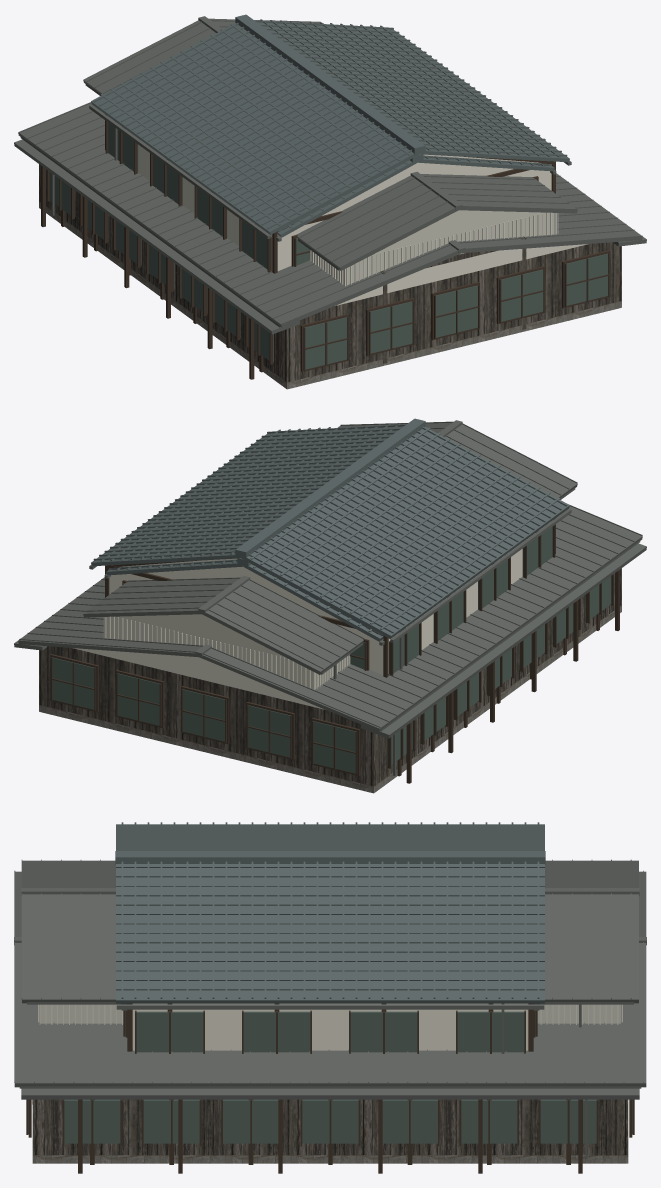
Rendered from junction.glb.
3 views of the same model, one above another, from view 1: azimuth 30°, elevation 25°; view 2: azimuth 150°, elevation 25°; view 3: azimuth 270°, elevation 25° (orthographic). The views are drawn at different scales.
Parts seen in each view (by area): view 1: 660927475-Weathered grey roof tile.028, 671938230-Junction charcoal sheet roof, 660927473-Junction charcoal sheet roof, 671938230-Smoke-aged cedar.028, 671938230-Recessed muted glazing.023, 671938230-Dark structural timber.028, 660927473-Junction pale metal siding, 671938230-Foundation granite.028, 660927475-Junction warm plaster, 660927475-Recessed muted glazing.023, 671938230-Junction warm plaster, 660927475-Dark structural timber.028 (+4 smaller); view 2: 660927475-Weathered grey roof tile.028, 671938230-Junction charcoal sheet roof, 660927473-Junction charcoal sheet roof, 671938230-Smoke-aged cedar.028, 671938230-Recessed muted glazing.023, 671938230-Dark structural timber.028, 660927473-Junction pale metal siding, 671938230-Foundation granite.028, 660927475-Junction warm plaster, 660927475-Recessed muted glazing.023, 671938230-Junction warm plaster, 660927475-Dark structural timber.028 (+3 smaller); view 3: 660927475-Weathered grey roof tile.028, 671938230-Junction charcoal sheet roof, 660927473-Junction charcoal sheet roof, 671938230-Recessed muted glazing.023, 671938230-Smoke-aged cedar.028, 660927475-Recessed muted glazing.023, 660927475-Junction warm plaster, 671938230-Dark structural timber.028, 671938230-Foundation granite.028, 660927473-Junction pale metal siding, 660927475-Junction charcoal sheet roof, 660927475-Dark structural timber.028 (+1 smaller).
Boxes of the visible parts, x1,y1,x2,y2 form: 660927475-Weathered grey roof tile.028: (91,14,569,234); 671938230-Junction charcoal sheet roof: (14,102,646,334); 660927473-Junction charcoal sheet roof: (83,16,577,270); 671938230-Smoke-aged cedar.028: (39,164,621,382); 671938230-Recessed muted glazing.023: (49,172,608,369); 671938230-Dark structural timber.028: (41,166,610,379); 660927473-Junction pale metal siding: (311,210,556,285); 671938230-Foundation granite.028: (39,201,621,389); 660927475-Junction warm plaster: (111,118,551,270); 660927475-Recessed muted glazing.023: (108,123,310,270); 671938230-Junction warm plaster: (335,244,588,305); 660927475-Dark structural timber.028: (105,114,555,273); 660927475-Weathered grey roof tile.028: (91,418,569,638); 671938230-Junction charcoal sheet roof: (14,504,646,775); 660927473-Junction charcoal sheet roof: (83,420,577,679); 671938230-Smoke-aged cedar.028: (39,568,621,786); 671938230-Recessed muted glazing.023: (52,576,611,773); 671938230-Dark structural timber.028: (50,570,619,783); 660927473-Junction pale metal siding: (104,614,350,689); 671938230-Foundation granite.028: (39,605,621,793); 660927475-Junction warm plaster: (109,522,549,674); 660927475-Recessed muted glazing.023: (350,527,552,673); 671938230-Junction warm plaster: (72,648,325,709); 660927475-Dark structural timber.028: (105,518,555,677); 660927475-Weathered grey roof tile.028: (115,822,545,1003); 671938230-Junction charcoal sheet roof: (14,870,646,1158); 660927473-Junction charcoal sheet roof: (21,859,639,1027); 671938230-Recessed muted glazing.023: (28,1099,632,1143); 671938230-Smoke-aged cedar.028: (32,1099,628,1155); 660927475-Recessed muted glazing.023: (125,1011,535,1052); 660927475-Junction warm plaster: (132,1003,528,1050); 671938230-Dark structural timber.028: (26,1099,634,1173); 671938230-Foundation granite.028: (32,1155,628,1163); 660927473-Junction pale metal siding: (40,1004,620,1023); 660927475-Junction charcoal sheet roof: (116,1003,544,1053); 660927475-Dark structural timber.028: (123,1003,537,1053).
Bounding box in the file's own units: 15.88 × 7.13 × 19.33.
Materials: 8 (2 with a texture image).
